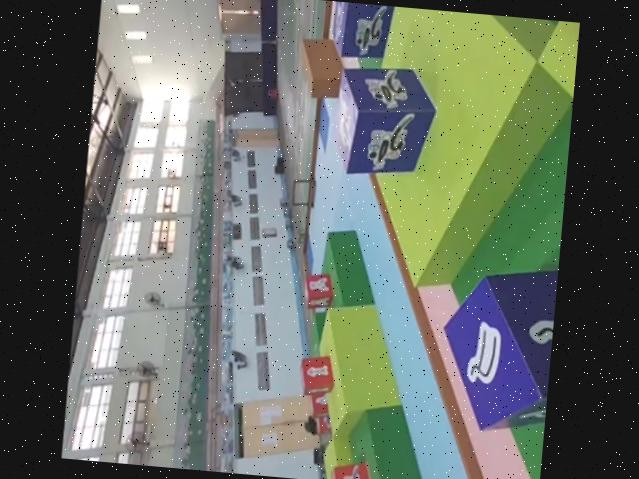R1 Blue: (330, 63, 439, 180), (331, 1, 397, 59)
R2 Real Blue: (435, 265, 557, 435)
